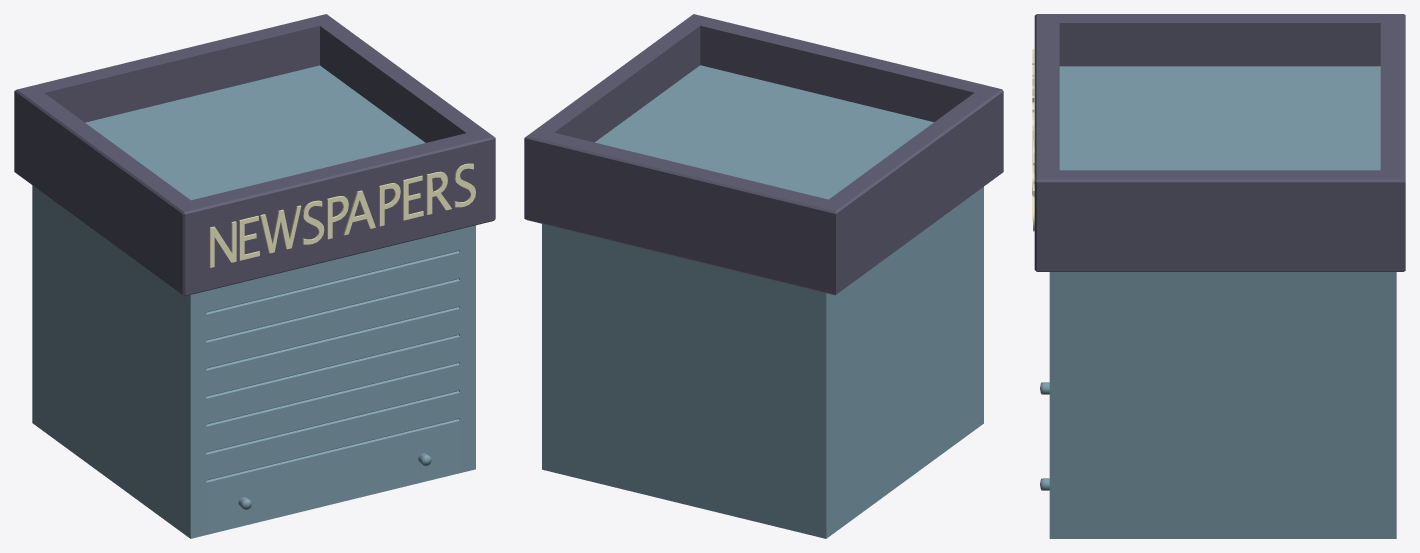
Rendered from newspapers.fbx.
3 views of the same model, side by side, from view 1: azimuth 30°, elevation 25°; view 2: azimuth 150°, elevation 25°; view 3: azimuth 270°, elevation 25° (orthographic). The views are drawn at different scales.
Parts seen in each view (by area): view 1: newspapers; view 2: newspapers; view 3: newspapers.
Part boxes in pixels (left/top/right/bottom): newspapers: left=14, top=14, right=495, bottom=538; newspapers: left=524, top=14, right=1003, bottom=538; newspapers: left=1032, top=14, right=1405, bottom=538.
Bounding box in the file's own units: 395 × 403 × 372.
